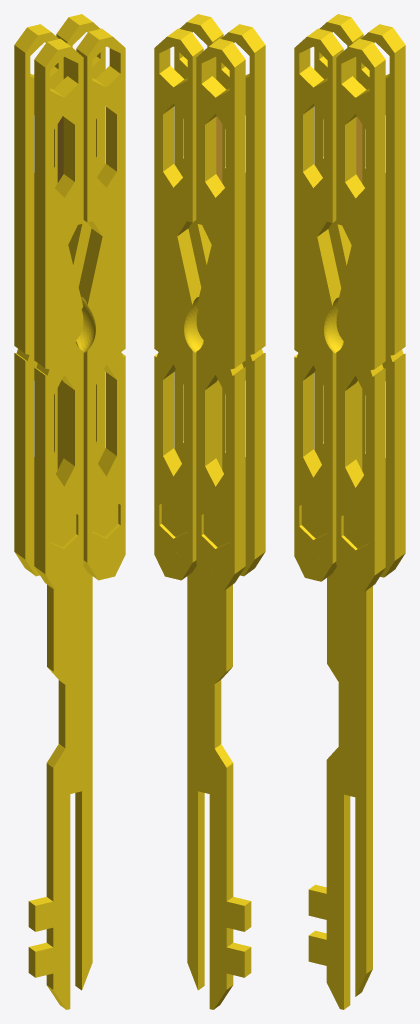
File: 키리송.obj
3 renders of one model, left to right at view 1: azimuth 30°, elevation 25°; view 2: azimuth 150°, elevation 25°; view 3: azimuth 330°, elevation 25°, orthographic.
Parts seen in each view (by area): view 1: obj_12, obj_3, obj_10, obj_2, obj_11, obj_8, obj_9; view 2: obj_2, obj_11, obj_10, obj_12, obj_3, obj_8, obj_9; view 3: obj_3, obj_12, obj_10, obj_11, obj_2, obj_0, obj_7.
Part boxes in pixels (x1,y1,x2,y2): obj_12: [34, 38, 83, 590]; obj_3: [76, 28, 125, 580]; obj_10: [28, 565, 92, 1009]; obj_2: [14, 24, 63, 576]; obj_11: [56, 14, 105, 463]; obj_8: [57, 380, 63, 469]; obj_9: [57, 116, 63, 182]; obj_2: [196, 38, 245, 590]; obj_11: [154, 28, 203, 580]; obj_10: [187, 565, 251, 1009]; obj_12: [216, 24, 265, 576]; obj_3: [174, 14, 223, 463]; obj_8: [216, 380, 222, 469]; obj_9: [216, 116, 222, 182]; obj_3: [336, 38, 385, 591]; obj_12: [294, 28, 343, 581]; obj_10: [308, 567, 372, 1009]; obj_11: [356, 24, 405, 577]; obj_2: [314, 14, 363, 464]; obj_0: [356, 381, 362, 470]; obj_7: [356, 116, 362, 182].
Bounding box in the file's own units: 21 × 243 × 14.
